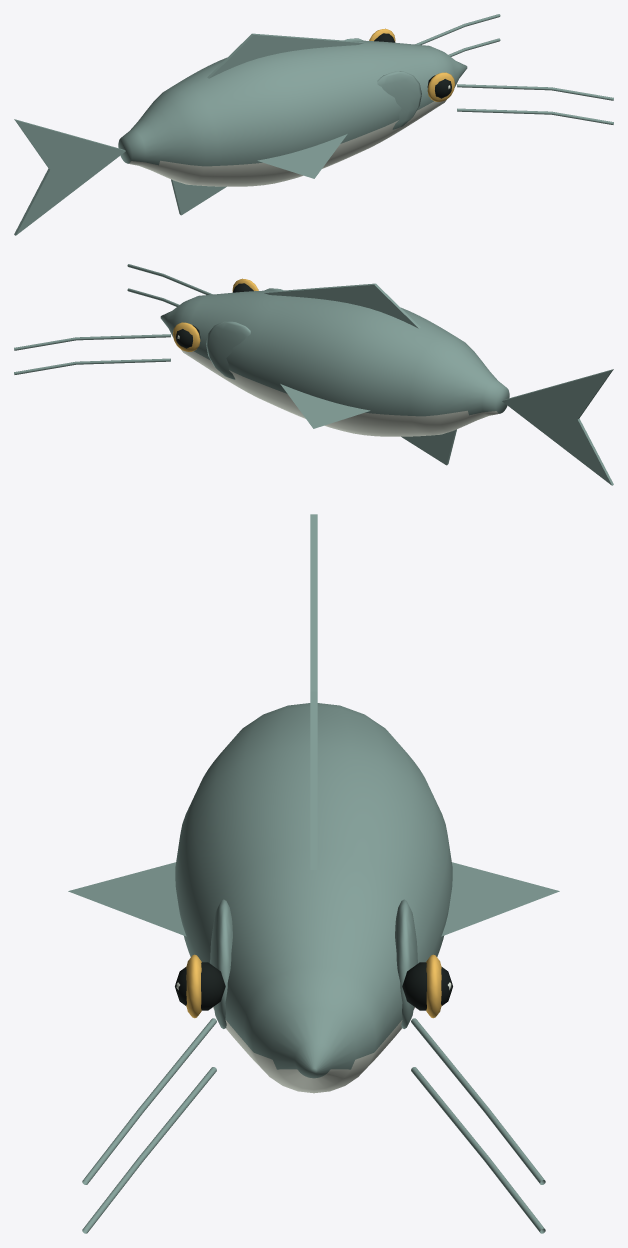
File: catfish.glb
3 renders of one model, top to bottom at view 1: azimuth 30°, elevation 25°; view 2: azimuth 150°, elevation 25°; view 3: azimuth 270°, elevation 25°, orthographic. The views are drawn at different scales.
Visible parts, largest first — view 1: catfish_Body, TailFinLower.003, TailFin.003, Dorsal.003, Pectoral.006, Gill_plate.006, Anal_fin.003, Whisker, Whisker.001, Iris_rim.006, Whisker.003; view 2: catfish_Body, TailFinLower.003, TailFin.003, Dorsal.003, Pectoral.007, Gill_plate.007, Anal_fin.003, Whisker.002, Whisker.003, Iris_rim.007, Whisker.001; view 3: catfish_Body, Pectoral.006, Pectoral.007, Gill_plate.006, Gill_plate.007, Dorsal.003, Whisker, Whisker.002, TailFin.003, Whisker.001, Whisker.003, Eye.006 (+1 smaller).
Boxes of the visible parts, box(x1,y1,x2,y2) form: catfish_Body: box(118, 40, 467, 186); TailFinLower.003: box(14, 151, 125, 235); TailFin.003: box(14, 119, 125, 169); Dorsal.003: box(207, 33, 363, 78); Pectoral.006: box(257, 134, 347, 178); Gill_plate.006: box(377, 71, 421, 129); Anal_fin.003: box(171, 179, 226, 215); Whisker: box(457, 108, 613, 124); Whisker.001: box(457, 84, 613, 100); Iris_rim.006: box(427, 72, 454, 101); Whisker.003: box(415, 14, 500, 44); catfish_Body: box(160, 290, 509, 436); TailFinLower.003: box(502, 401, 613, 485); TailFin.003: box(502, 369, 613, 419); Dorsal.003: box(264, 283, 420, 328); Pectoral.007: box(280, 384, 370, 428); Gill_plate.007: box(206, 321, 250, 379); Anal_fin.003: box(401, 429, 456, 465); Whisker.002: box(14, 358, 170, 374); Whisker.003: box(14, 334, 170, 350); Iris_rim.007: box(173, 322, 200, 351); Whisker.001: box(127, 264, 212, 294); catfish_Body: box(175, 703, 452, 1093); Pectoral.006: box(68, 862, 186, 936); Pectoral.007: box(441, 862, 559, 936); Gill_plate.006: box(210, 899, 232, 1028); Gill_plate.007: box(395, 899, 417, 1028); Dorsal.003: box(310, 691, 317, 869); Whisker: box(82, 1067, 216, 1233); Whisker.002: box(411, 1067, 545, 1233); TailFin.003: box(310, 514, 317, 691); Whisker.001: box(82, 1018, 216, 1184); Whisker.003: box(411, 1018, 545, 1184); Eye.006: box(175, 962, 225, 1010).
Bounding box in the file's own units: 2.8 × 0.804 × 1.1.
